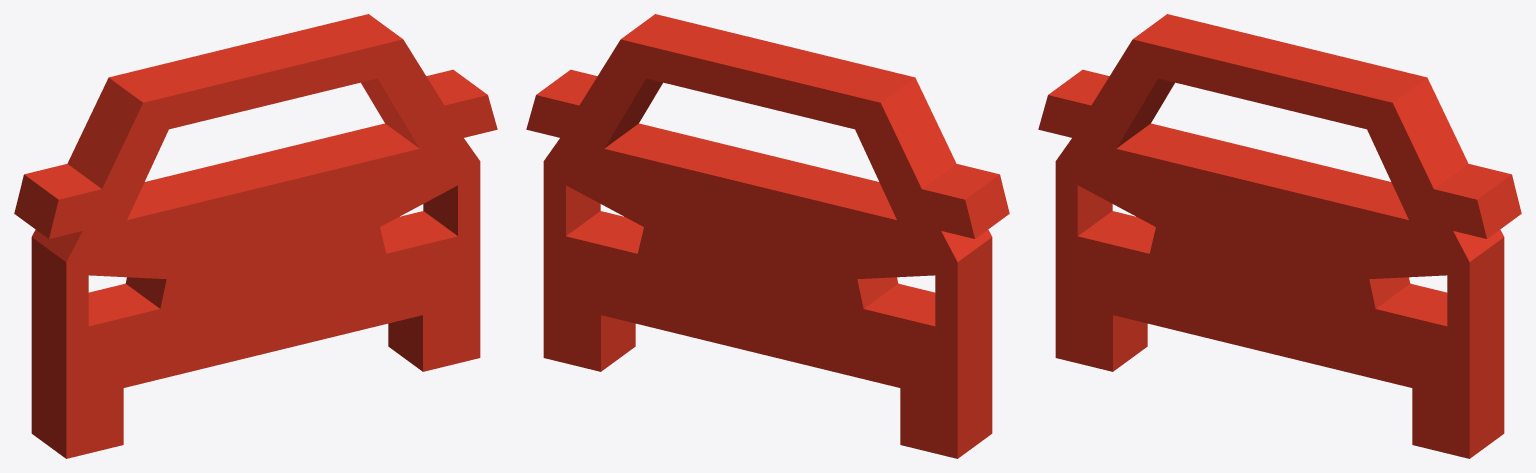
File: Icon_Car_01.fbx
The picture shows the model from 3 angles, left to right: view 1: azimuth 30°, elevation 25°; view 2: azimuth 150°, elevation 25°; view 3: azimuth 330°, elevation 25°; orthographic projection.
Parts seen in each view (by area): view 1: Icon_Car_01; view 2: Icon_Car_01; view 3: Icon_Car_01.
Part boxes in pixels (bbox=[...]): Icon_Car_01: bbox=[14, 14, 497, 458]; Icon_Car_01: bbox=[526, 14, 1009, 458]; Icon_Car_01: bbox=[1038, 14, 1521, 458].
Bounding box in the file's own units: 90.14 × 64.75 × 12.06.
